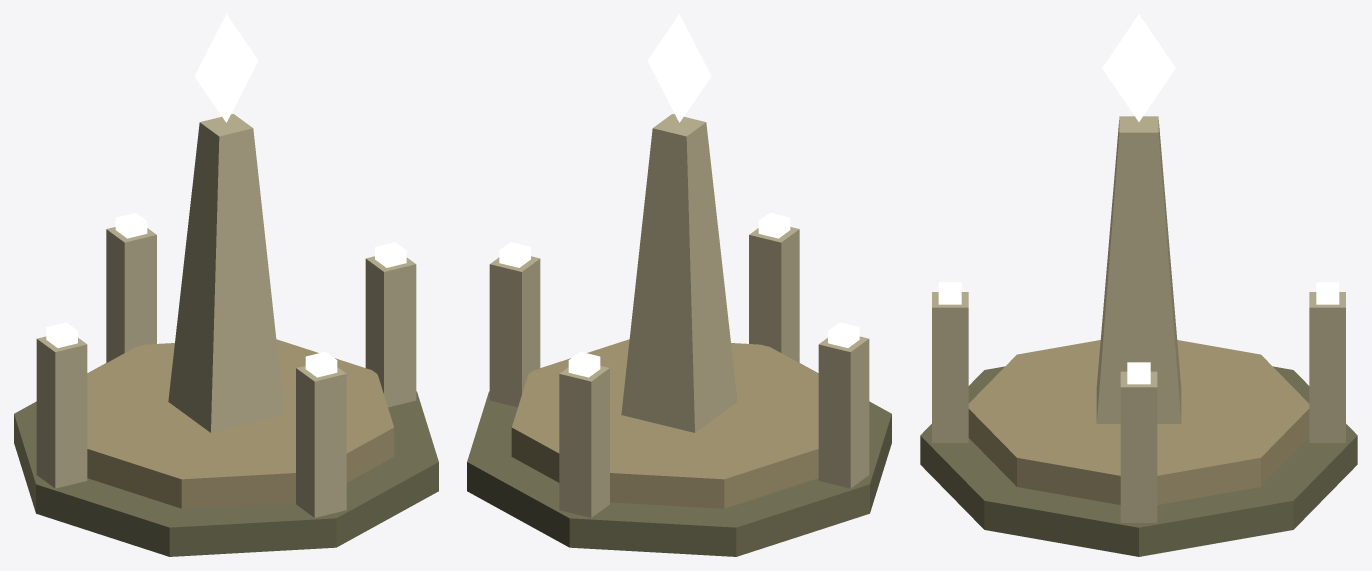
File: hero_forge_t1.glb
3 renders of one model, left to right at view 1: azimuth 30°, elevation 25°; view 2: azimuth 150°, elevation 25°; view 3: azimuth 270°, elevation 25°, orthographic.
Parts seen in each view (by area): view 1: body, glow; view 2: body, glow; view 3: body, glow.
Part boxes in pixels (<box>): body: <box>14,114,438,556</box>; glow: <box>46,14,406,377</box>; body: <box>467,114,891,556</box>; glow: <box>499,14,859,377</box>; body: <box>920,116,1357,556</box>; glow: <box>938,14,1339,384</box>.
Bounding box in the file's own units: 1.9 × 2.16 × 1.9.
